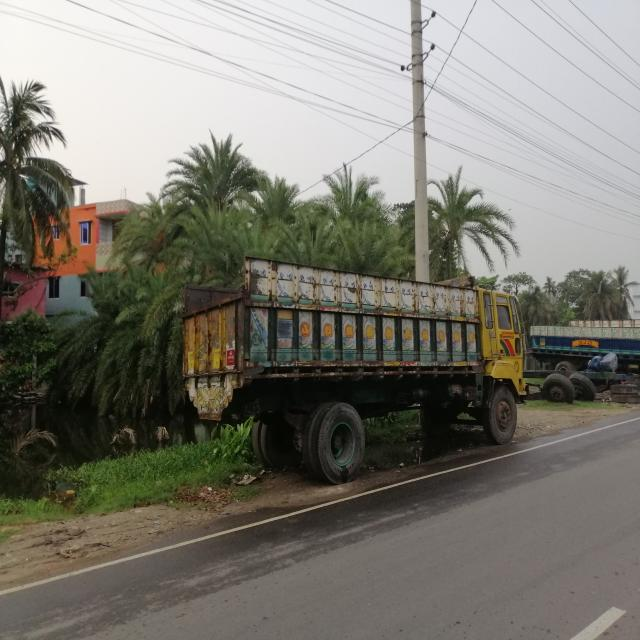Truck: (179, 259, 537, 481)
